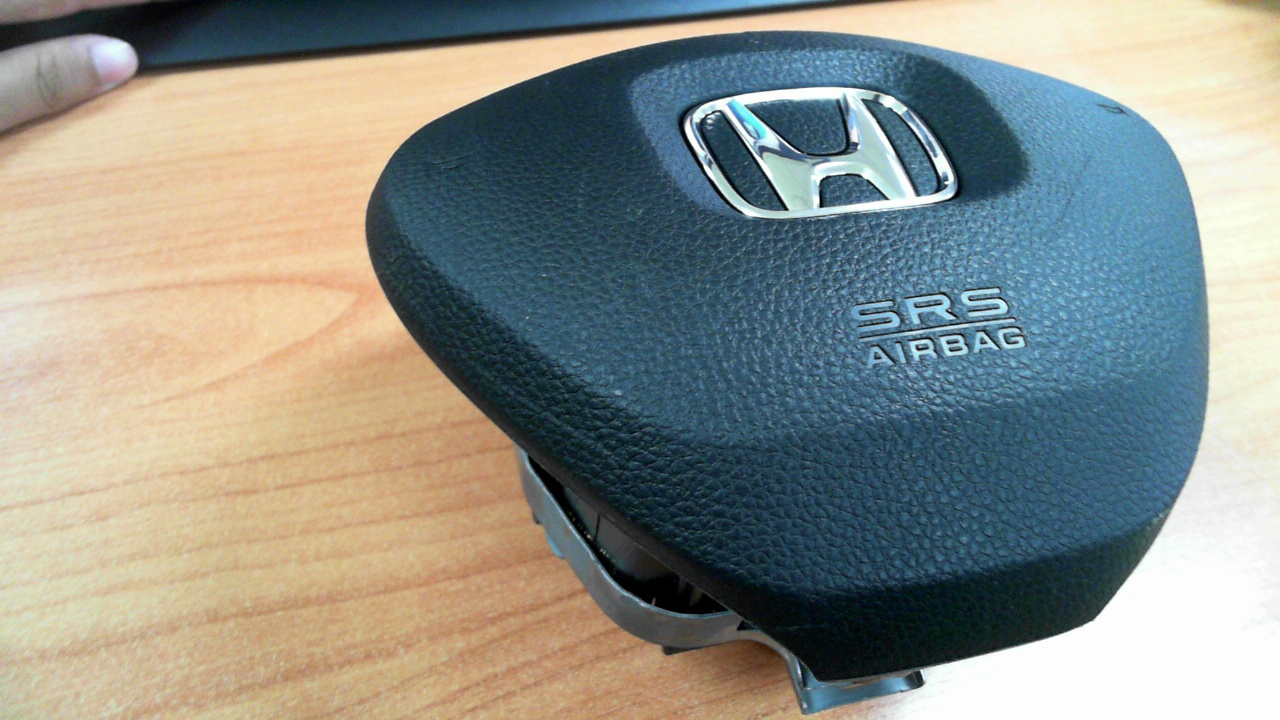Airbag: (364, 30, 1211, 715)
Honda: (680, 86, 958, 219)
